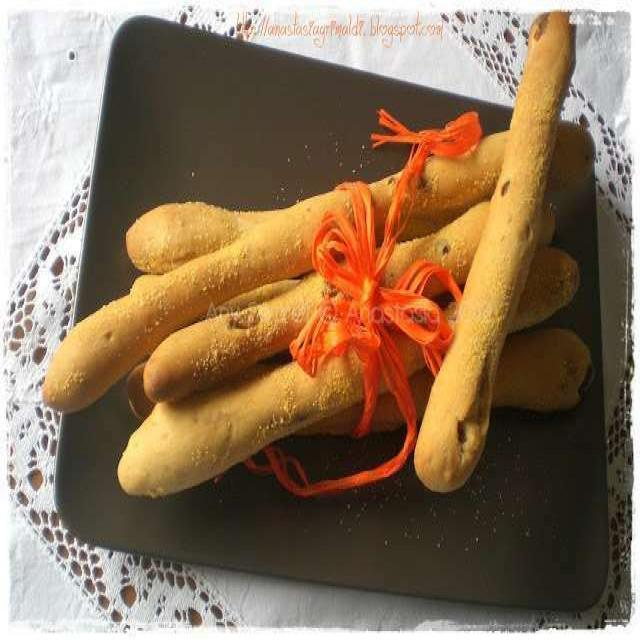Grissini: (423, 16, 582, 500)
